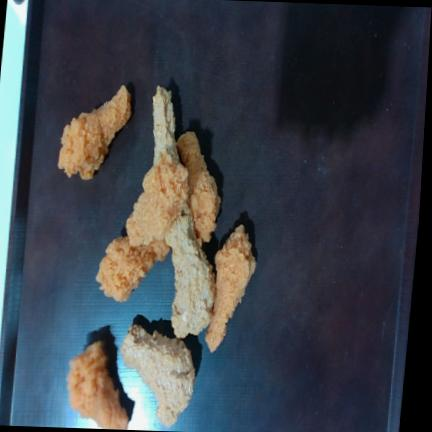chicken: (121, 324, 195, 427), (58, 85, 131, 179), (165, 204, 215, 338), (205, 225, 256, 352), (126, 154, 188, 244), (177, 131, 220, 242), (96, 237, 169, 301), (153, 86, 179, 164)
